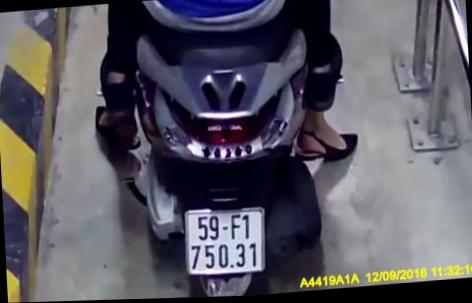LP: (182, 205, 268, 280)
